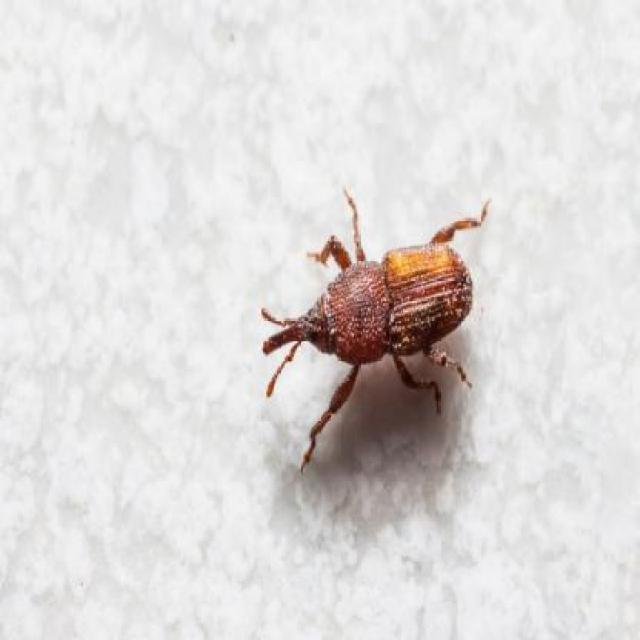rice-bug: (264, 218, 473, 399)
